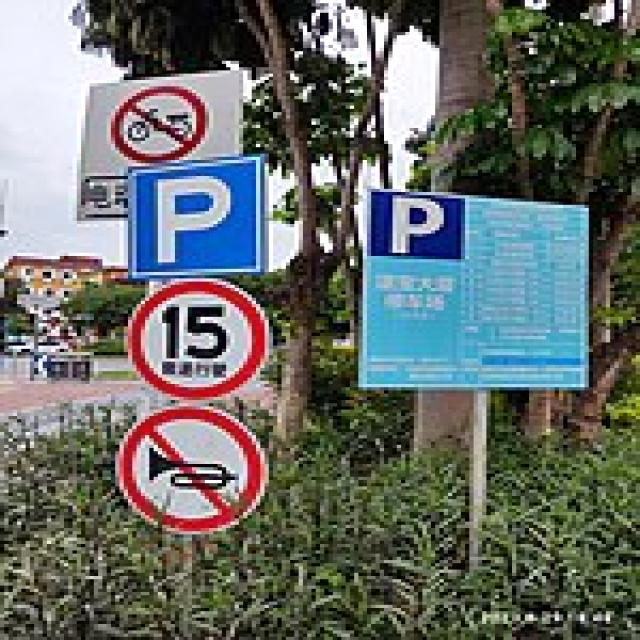Traffic sign: (120, 151, 277, 538)
